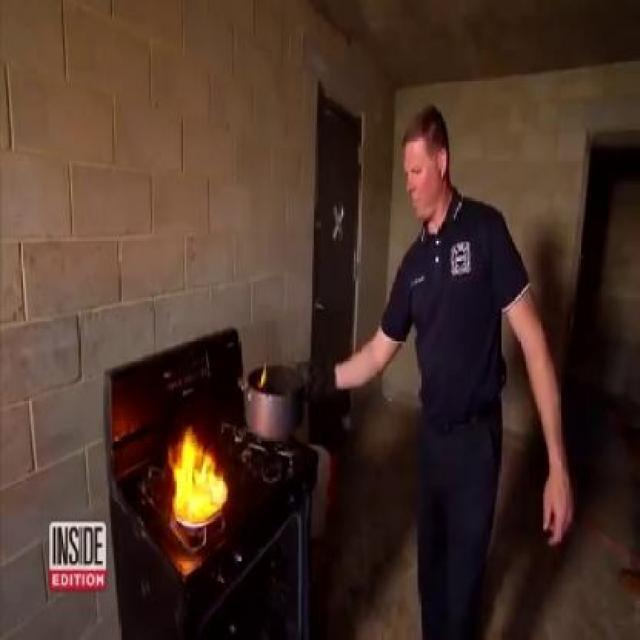fire: (166, 416, 231, 532)
